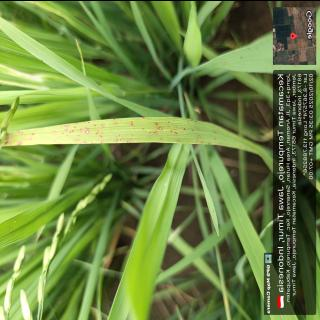bercak-Cokelat: (58, 115, 173, 142)
